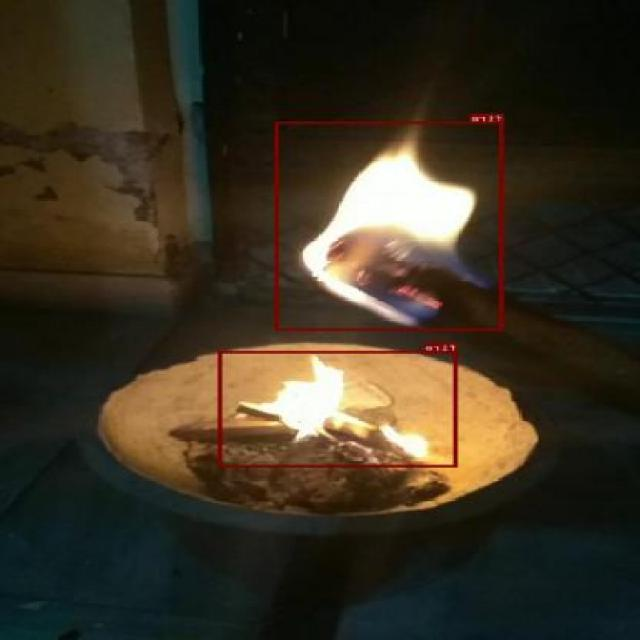Fire: (276, 122, 504, 330), (218, 350, 458, 467)
